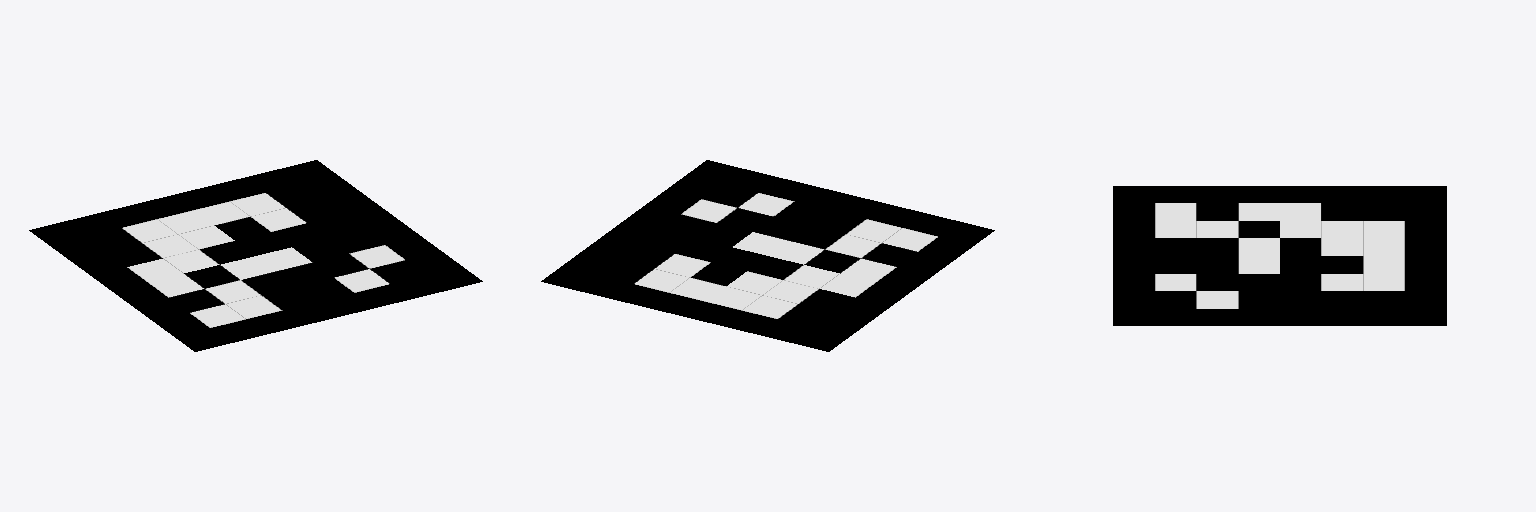
The picture shows the model from 3 angles: view 1: azimuth 30°, elevation 25°; view 2: azimuth 150°, elevation 25°; view 3: azimuth 270°, elevation 25°; orthographic projection.
Visible parts, largest first — view 1: textured.006; view 2: textured.006; view 3: textured.006.
Part boxes in pixels (x1,y1,x2,y2): textured.006: (29,160,482,351); textured.006: (541,160,994,351); textured.006: (1113,186,1446,325).
Bounding box in the file's own units: 2 × 0 × 2.
1 materials, 1 textured.